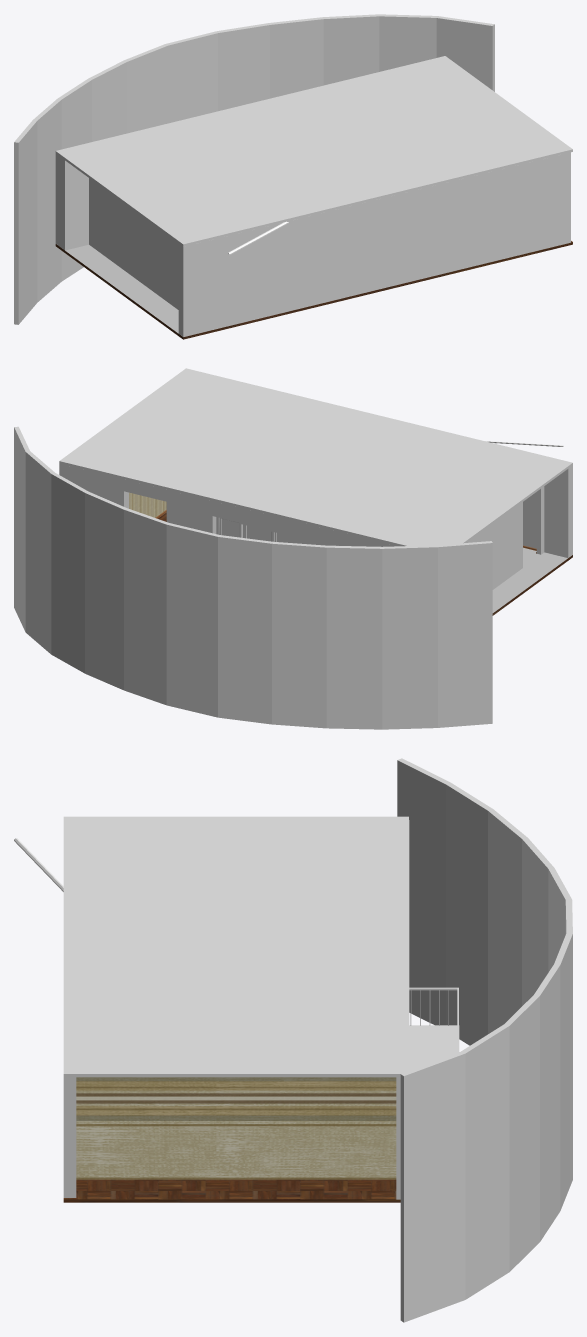
File: flat2.fbx
The picture shows the model from 3 angles, top to bottom: view 1: azimuth 30°, elevation 25°; view 2: azimuth 150°, elevation 25°; view 3: azimuth 270°, elevation 25°; orthographic projection. The views are drawn at different scales.
Parts seen in each view (by area): view 1: Куб.001, Куб.014, Куб.003, Куб.004, Куб, Куб.005; view 2: Куб.014, Куб.001, Куб.005, Куб.003, Куб.004, Куб, евро окно балкон, Куб.002; view 3: Куб.001, Куб.014, Куб.002, Куб, Куб.009, Куб.003, Куб.005.
Boxes of the visible parts, box(x1,y1,x2,y2) form: Куб.001: box(55, 56, 572, 246); Куб.014: box(14, 14, 494, 324); Куб.003: box(178, 152, 570, 336); Куб.004: box(89, 178, 178, 309); Куб: box(55, 241, 572, 339); Куб.005: box(55, 154, 88, 250); Куб.014: box(14, 426, 492, 729); Куб.001: box(59, 368, 572, 546); Куб.005: box(59, 463, 397, 546); Куб.003: box(523, 465, 572, 557); Куб.004: box(467, 486, 544, 589); Куб: box(158, 512, 572, 615); евро окно балкон: box(216, 517, 284, 542); Куб.002: box(129, 492, 166, 517); Куб.001: box(63, 816, 408, 1077); Куб.014: box(397, 758, 572, 1322); Куб.002: box(76, 1077, 396, 1179); Куб: box(63, 1179, 400, 1202); Куб.009: box(409, 1025, 459, 1070); Куб.003: box(63, 1077, 76, 1197); Куб.005: box(396, 820, 409, 1199).
Size of the model in its own units: 2511 by 907 by 1865.
